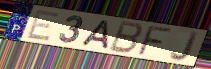3: (58, 15, 85, 45)
A: (79, 19, 111, 50)
B: (107, 19, 146, 55)
E: (24, 9, 61, 43)
F: (135, 25, 175, 57)
J: (168, 30, 200, 63)
